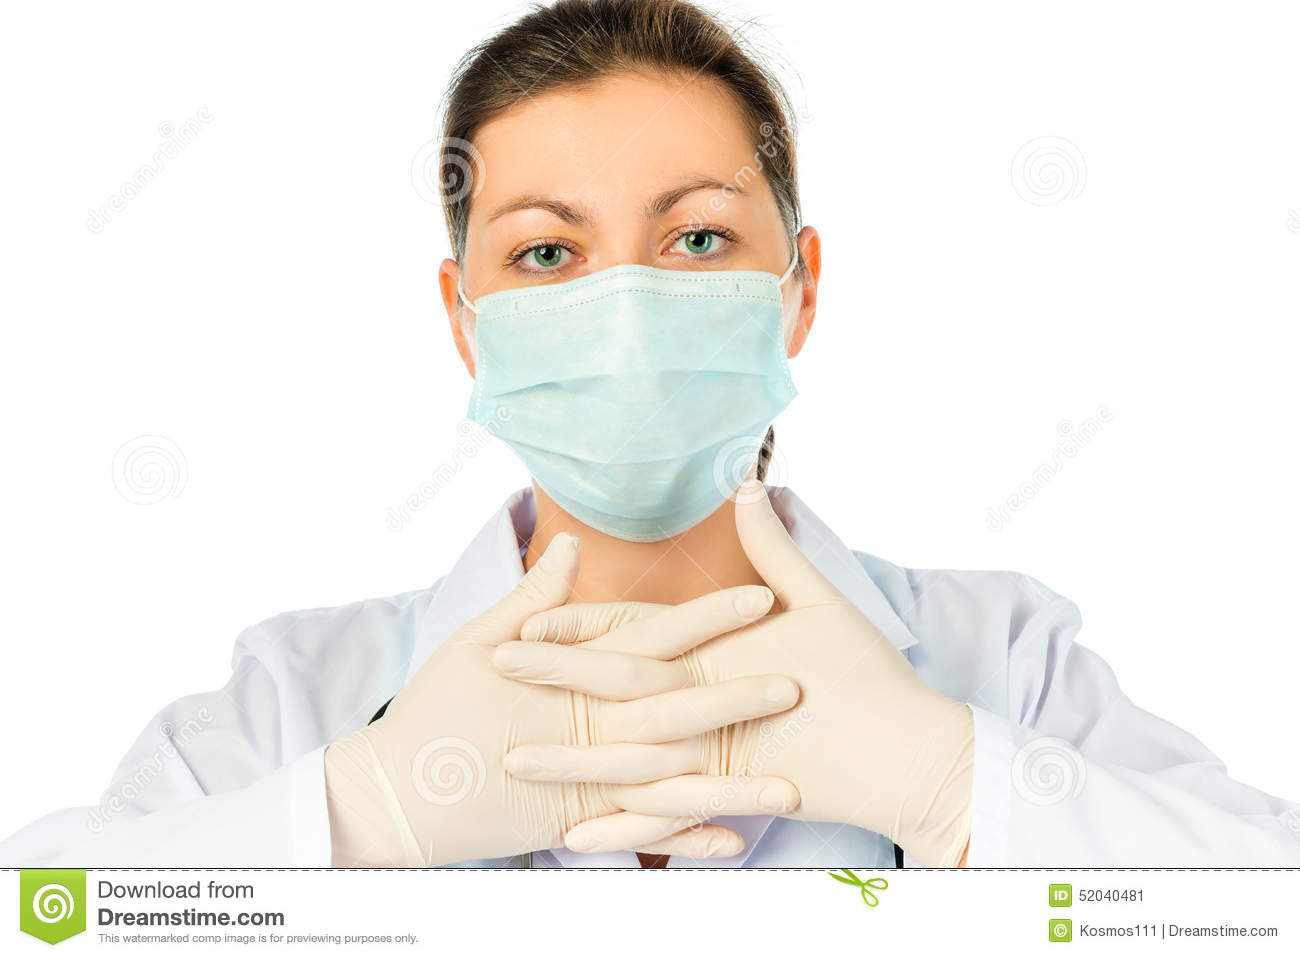mask: (478, 271, 816, 521)
